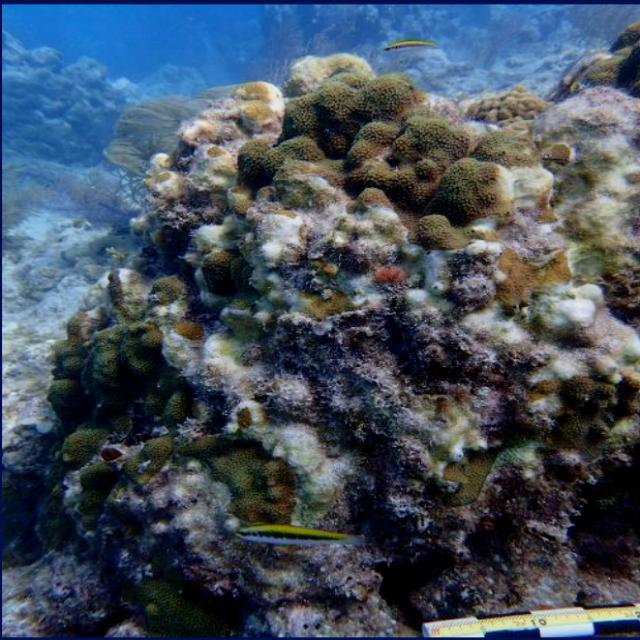Coral: (33, 50, 640, 636)
